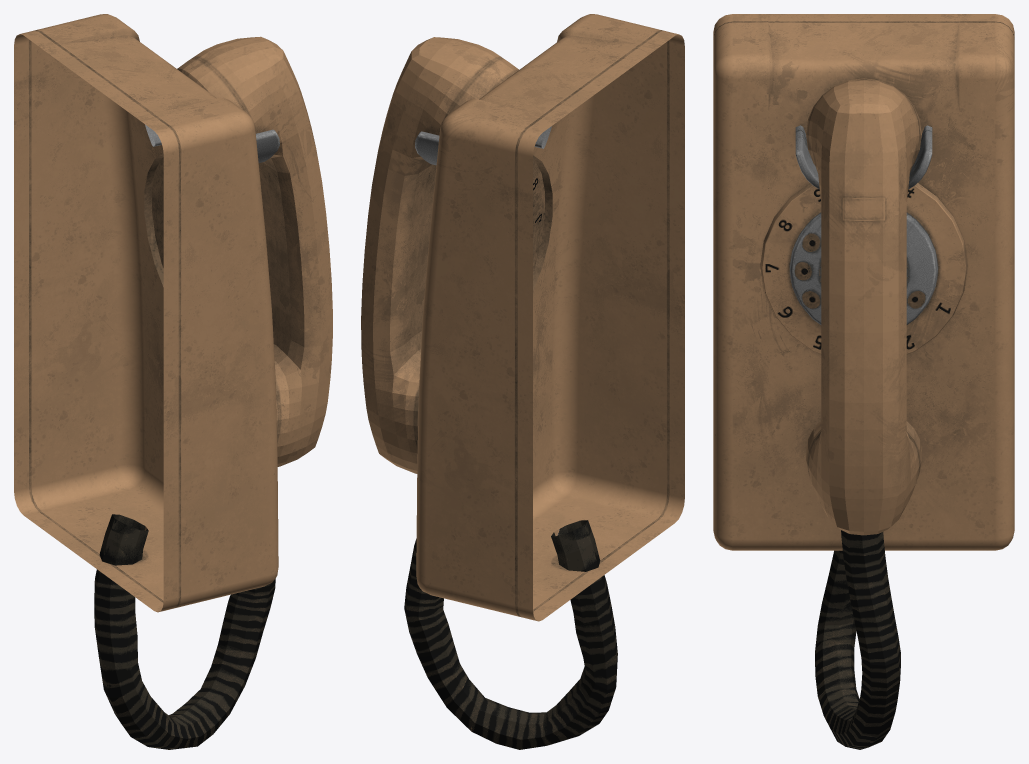
The model's file is TELEFONO SEPARADO.FBX.
3 views of the same model, side by side, from view 1: azimuth 30°, elevation 25°; view 2: azimuth 150°, elevation 25°; view 3: azimuth 270°, elevation 25° (orthographic).
Visible parts, largest first — view 1: polySurface58, Object002, Object001; view 2: polySurface58, Object002, Object001; view 3: polySurface58, Object002, Object001.
Part boxes in pixels (x1,y1,x2,y2): polySurface58: (14,14,279,612); Object002: (177,36,332,466); Object001: (94,514,275,749); polySurface58: (415,14,684,621); Object002: (361,37,518,473); Object001: (404,520,617,749); polySurface58: (713,14,1014,550); Object002: (806,78,921,535); Object001: (815,530,900,749).
Size of the model in its own units: 17.03 by 47.45 by 18.88.
